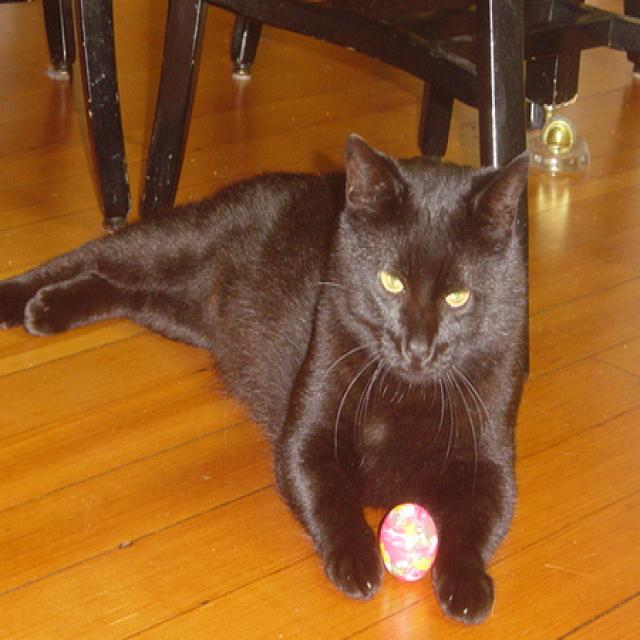Bombay: (0, 129, 535, 627)
